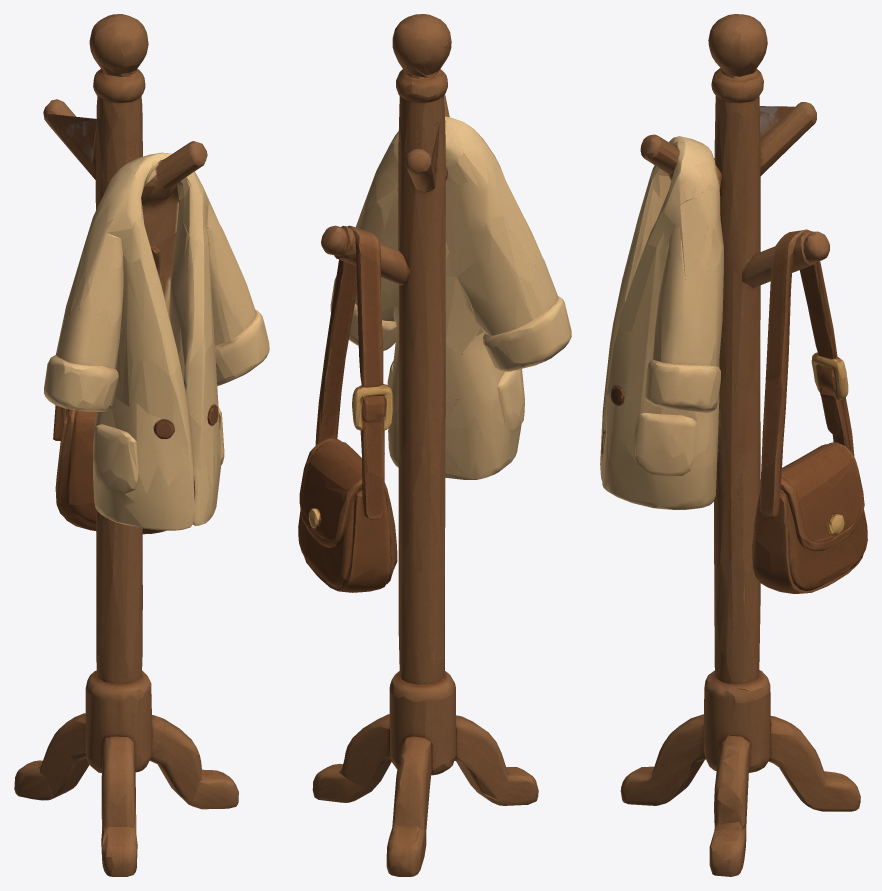
Rendered from coathanger.glb.
The picture shows the model from 3 angles, left to right: view 1: azimuth 30°, elevation 25°; view 2: azimuth 150°, elevation 25°; view 3: azimuth 270°, elevation 25°; orthographic projection.
Parts seen in each view (by area): view 1: mesh_node; view 2: mesh_node; view 3: mesh_node.
Part boxes in pixels (box(x1,y1,x2,y2)): mesh_node: box(14, 14, 269, 876); mesh_node: box(298, 14, 571, 876); mesh_node: box(600, 14, 867, 876).
Bounding box in the file's own units: 0.2588 × 0.8979 × 0.27.
Materials: 1 (1 with a texture image).
